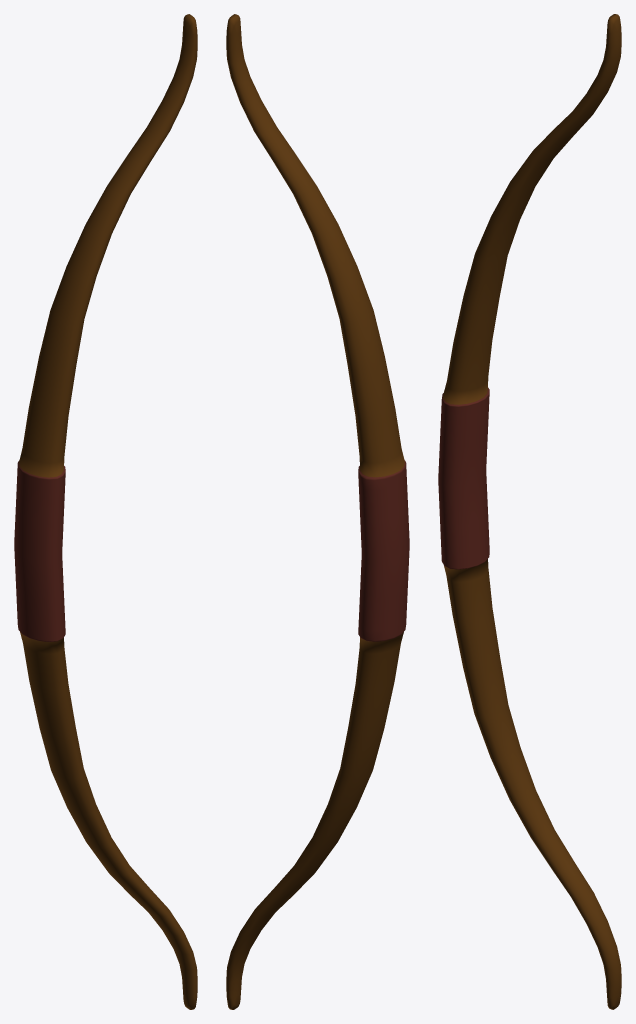
The model's file is Arco.fbx.
The picture shows the model from 3 angles, left to right: view 1: azimuth 30°, elevation 25°; view 2: azimuth 150°, elevation 25°; view 3: azimuth 330°, elevation 25°; orthographic projection.
Visible parts, largest first — view 1: Cube; view 2: Cube; view 3: Cube.
Part boxes in pixels (<box>): Cube: <box>14,14,197,1009</box>; Cube: <box>226,14,409,1009</box>; Cube: <box>438,14,621,1009</box>.
Size of the model in its own units: 87.7 by 468 by 27.05.
